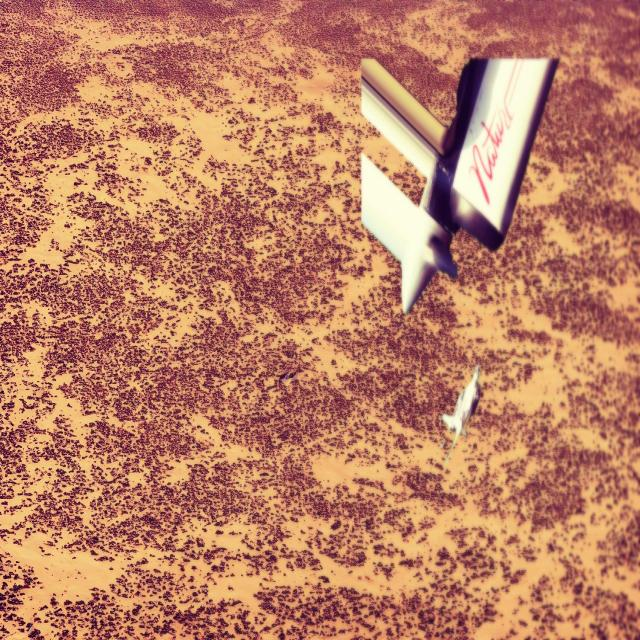airplane: (359, 54, 559, 315), (440, 364, 481, 465)
